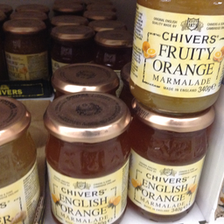jam: (44, 92, 132, 224), (131, 1, 224, 115), (130, 100, 215, 222), (1, 97, 40, 224), (4, 19, 48, 80), (50, 23, 94, 68)
